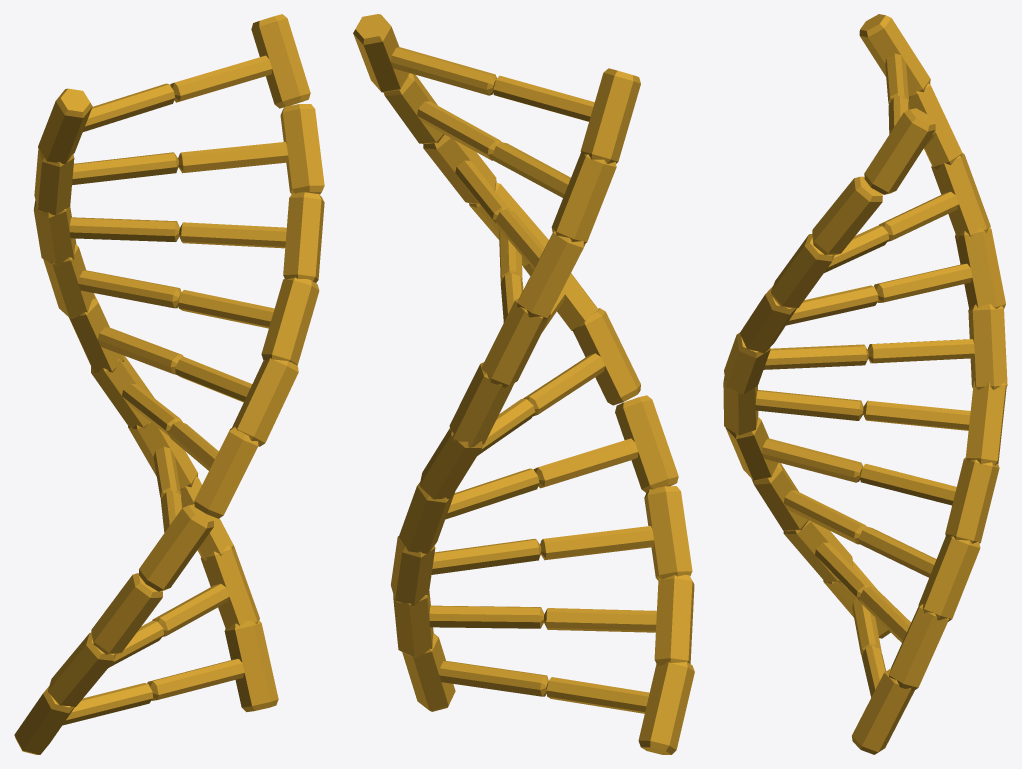
Rendered from medicine.glb.
3 renders of one model, left to right at view 1: azimuth 30°, elevation 25°; view 2: azimuth 150°, elevation 25°; view 3: azimuth 270°, elevation 25°, orthographic. The views are drawn at different scales.
Visible parts, largest first — view 1: group98267956, group1918272623, group1890997749, group816999805, group1941224218, group1916454902, group1692922274, group64402491, group905627815, group543773821, group80703863, group1355464784 (+8 smaller); view 2: group583171219, group1184130097, group1692922274, group500574630, group1100175594, group64402491, group1355464784, group1890997749, group1941224218, group679215435, group543773821, group905627815 (+8 smaller); view 3: group98256001, group1347056512, group1440525040, group80703863, group679215435, group905627815, group543773821, group1916454902, group500574630, group1355464784, group1890997749, group816999805 (+8 smaller).
Part boxes in pixels (<box>): group98267956: <box>178,104,324,194</box>; group1918272623: <box>179,192,324,282</box>; group1890997749: <box>170,14,310,108</box>; group816999805: <box>178,277,319,365</box>; group1941224218: <box>147,620,278,712</box>; group1916454902: <box>175,357,298,446</box>; group1692922274: <box>38,83,175,164</box>; group64402491: <box>34,148,178,215</box>; group905627815: <box>33,200,179,266</box>; group543773821: <box>152,545,259,636</box>; group80703863: <box>43,244,181,318</box>; group1355464784: <box>168,421,258,518</box>; group583171219: <box>546,662,694,754</box>; group1184130097: <box>540,486,692,580</box>; group1692922274: <box>493,68,640,163</box>; group500574630: <box>533,395,678,492</box>; group1100175594: <box>543,575,694,666</box>; group64402491: <box>492,142,616,243</box>; group1355464784: <box>523,308,640,416</box>; group1890997749: <box>353,14,496,95</box>; group1941224218: <box>402,633,548,711</box>; group679215435: <box>391,536,541,606</box>; group543773821: <box>393,591,544,657</box>; group905627815: <box>495,209,585,320</box>; group98256001: <box>867,304,1007,389</box>; group1347056512: <box>860,457,999,543</box>; group1440525040: <box>863,381,1006,465</box>; group80703863: <box>874,227,1005,309</box>; group679215435: <box>859,526,980,621</box>; group905627815: <box>878,153,990,241</box>; group543773821: <box>859,586,948,690</box>; group1916454902: <box>724,332,868,394</box>; group500574630: <box>725,417,863,482</box>; group1355464784: <box>723,376,863,435</box>; group1890997749: <box>864,96,935,194</box>; group816999805: <box>740,285,878,353</box>.
Size of the model in its own units: 0.4481 by 1 by 0.3905.
